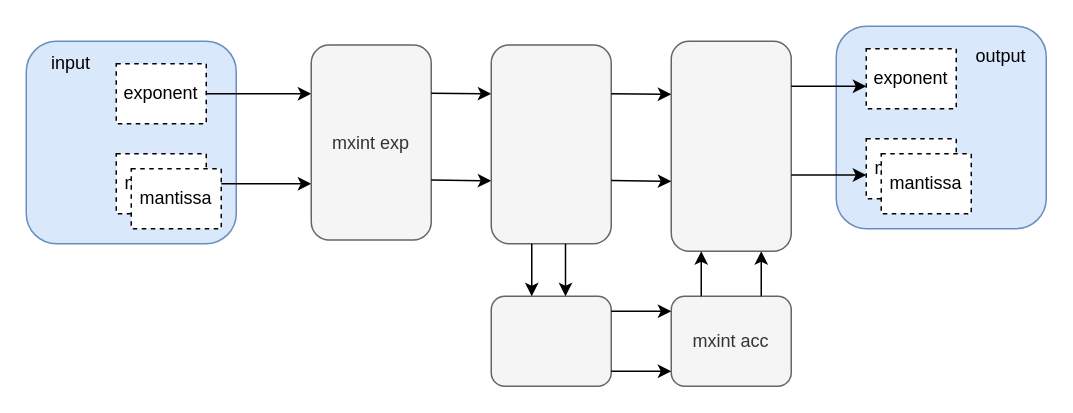
The diagram is 1073 pixels wide and 413 high, and some of its shapes have lost their labels. Here are the shapes that lost their labels. From the top down, the centre of each, then its label:
At point 550,144: "mxint split".
At point 730,145: "mxint div".
At point 550,340: "mxint adder tree".
